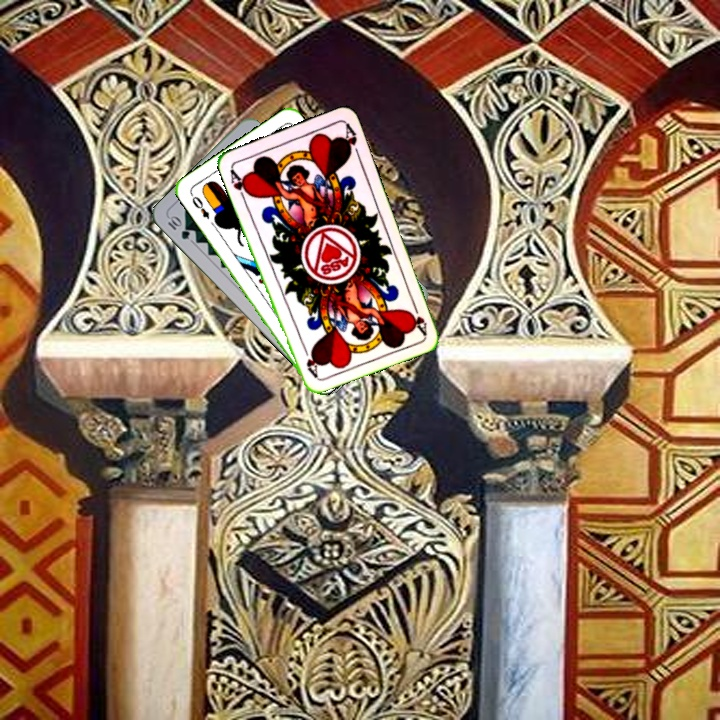EO: (186, 190, 212, 222)
G10: (163, 212, 193, 242)
HA: (226, 164, 254, 203), (406, 297, 430, 337)
